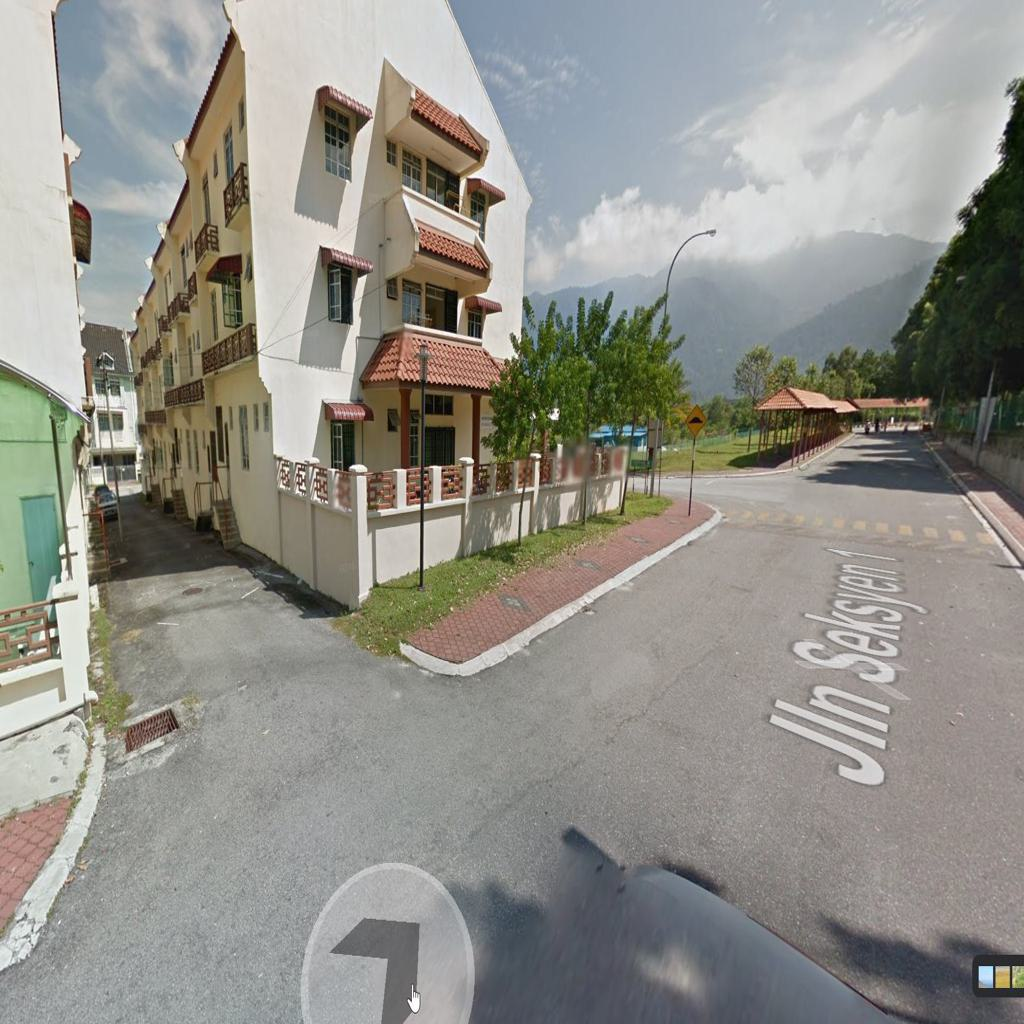Junction: (99, 582, 442, 833), (630, 444, 781, 521)
